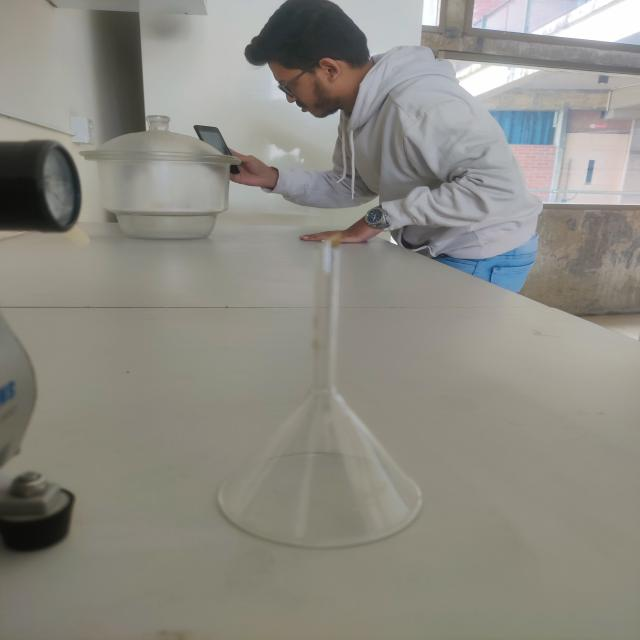Funnel: (190, 196, 470, 587)
